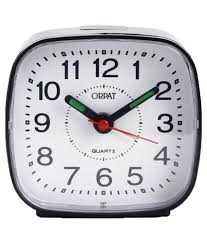alarm_clock: (7, 28, 198, 218)
